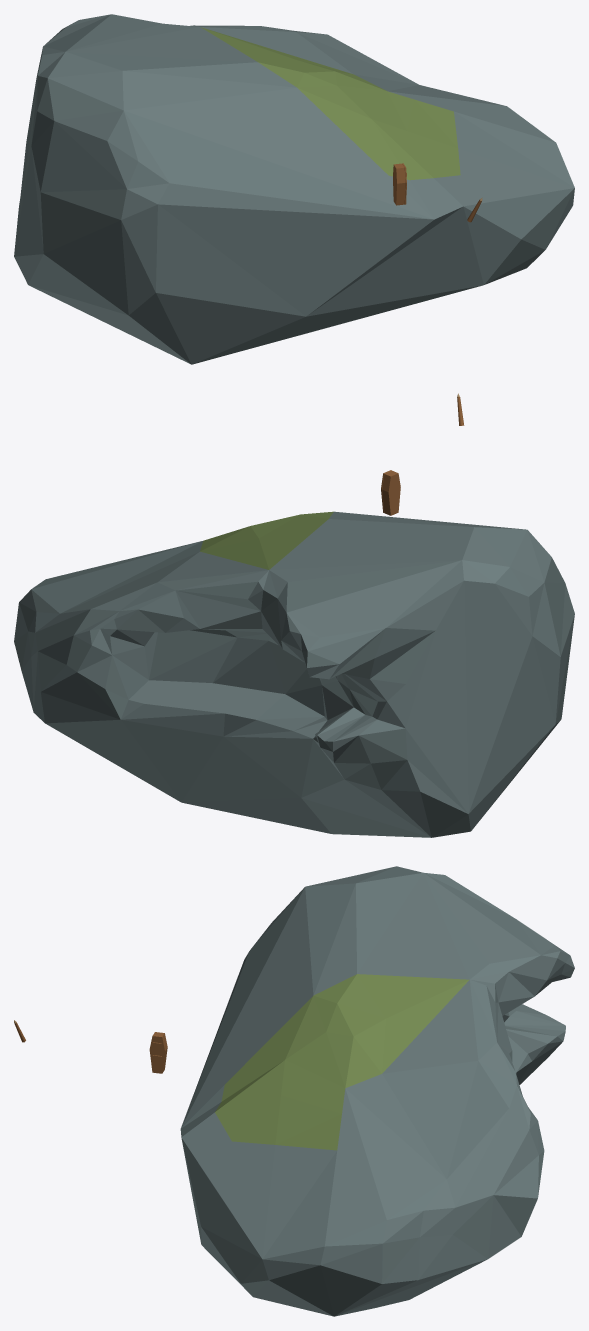
The picture shows the model from 3 angles, top to bottom: view 1: azimuth 30°, elevation 25°; view 2: azimuth 150°, elevation 25°; view 3: azimuth 270°, elevation 25°; orthographic projection. The views are drawn at different scales.
Parts seen in each view (by area): view 1: Box268_rock_0, Box268_green3_0, Box810_brown_0; view 2: Box268_rock_0, Box268_green3_0, Box810_brown_0; view 3: Box268_rock_0, Box268_green3_0, Box810_brown_0.
Boxes of the visible parts, x1,y1,x2,y2 form: Box268_rock_0: (14,14,574,364); Box268_green3_0: (201,27,460,180); Box810_brown_0: (393,163,406,205); Box268_rock_0: (14,511,574,837); Box268_green3_0: (200,511,333,569); Box810_brown_0: (381,470,400,515); Box268_rock_0: (180,866,574,1316); Box268_green3_0: (215,974,469,1150); Box810_brown_0: (149,1032,167,1073).
Size of the model in its own units: 2641 by 1517 by 2570.
